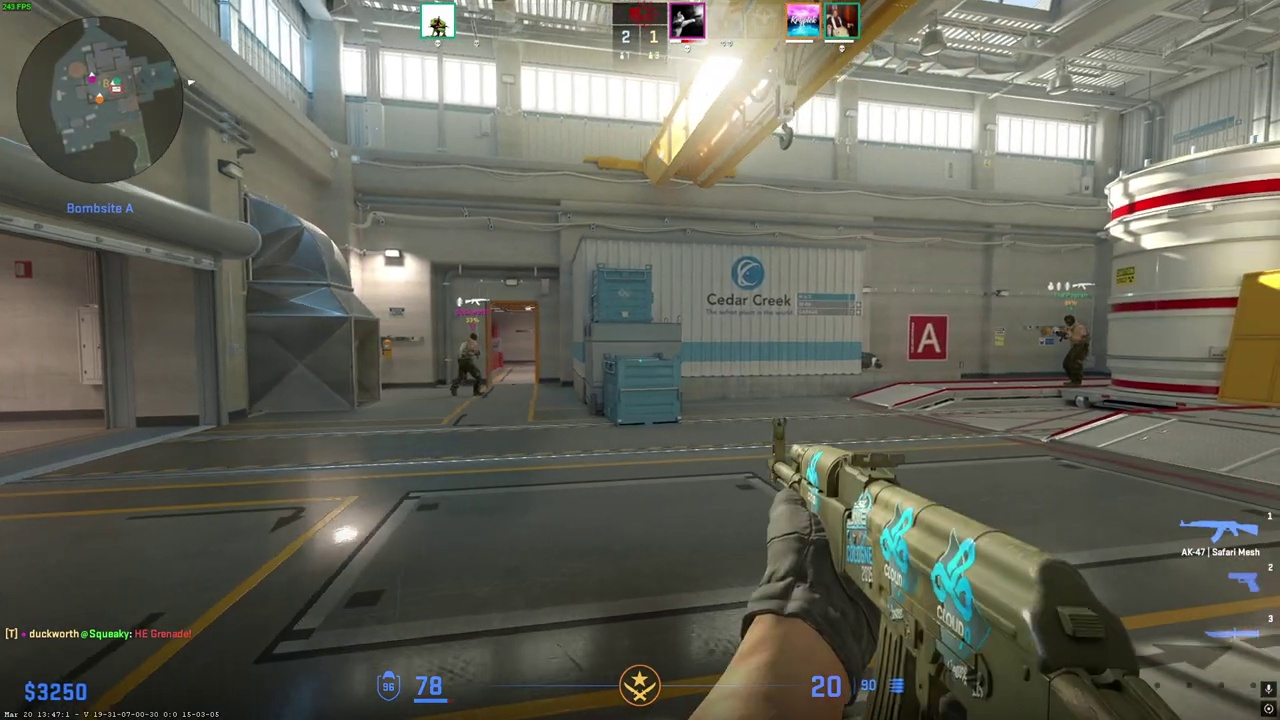Terrorist: (1056, 314, 1090, 387), (452, 332, 484, 396)
